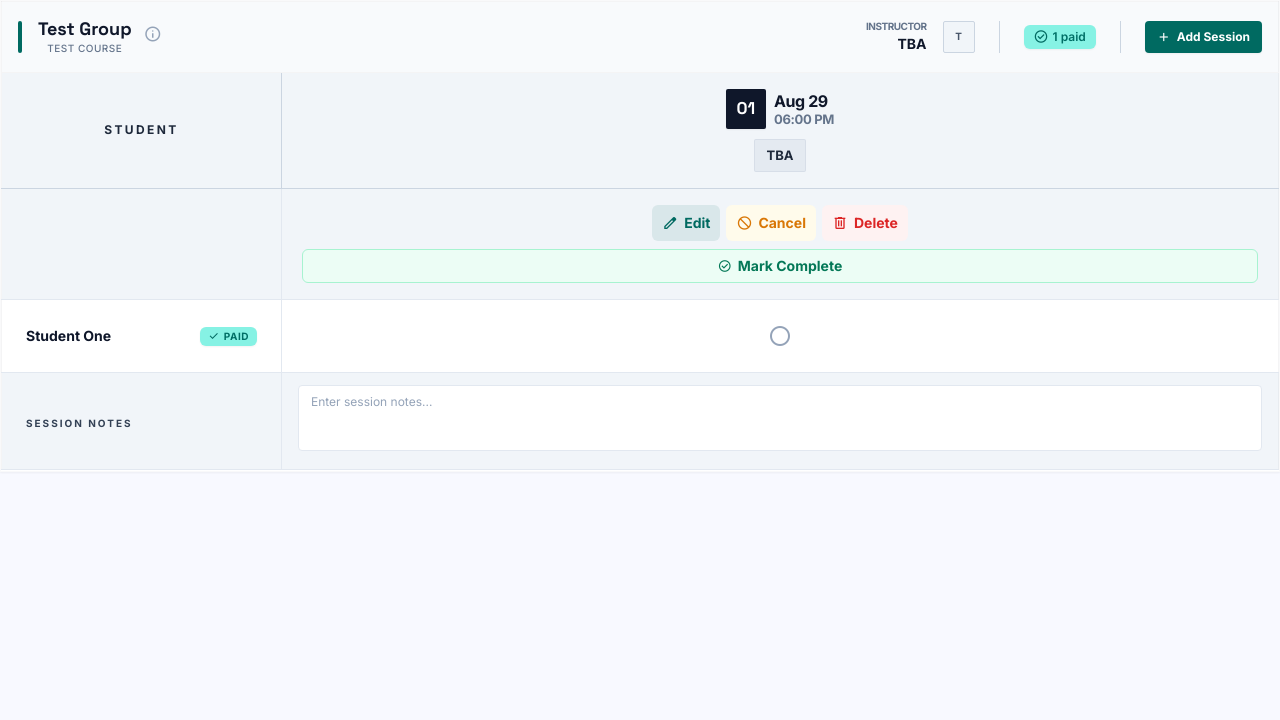
Test: AttendanceGrid AddSessionDialog refresh › does not invalidate attendance caches when the dialog is cancelled
Click the button "Add Session" at point(1203, 37), box [1145, 21, 1262, 53]
(page scrolled)
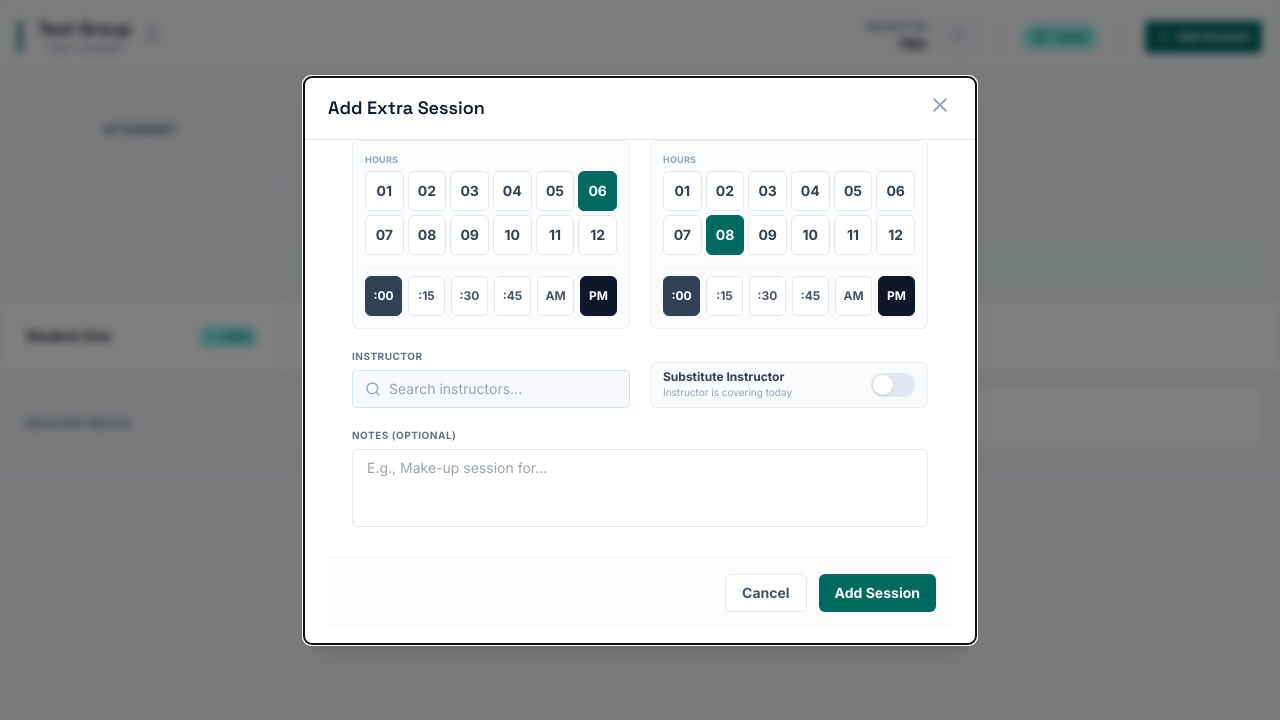
Click the button "Cancel" at point(766, 592), box [725, 574, 807, 612]
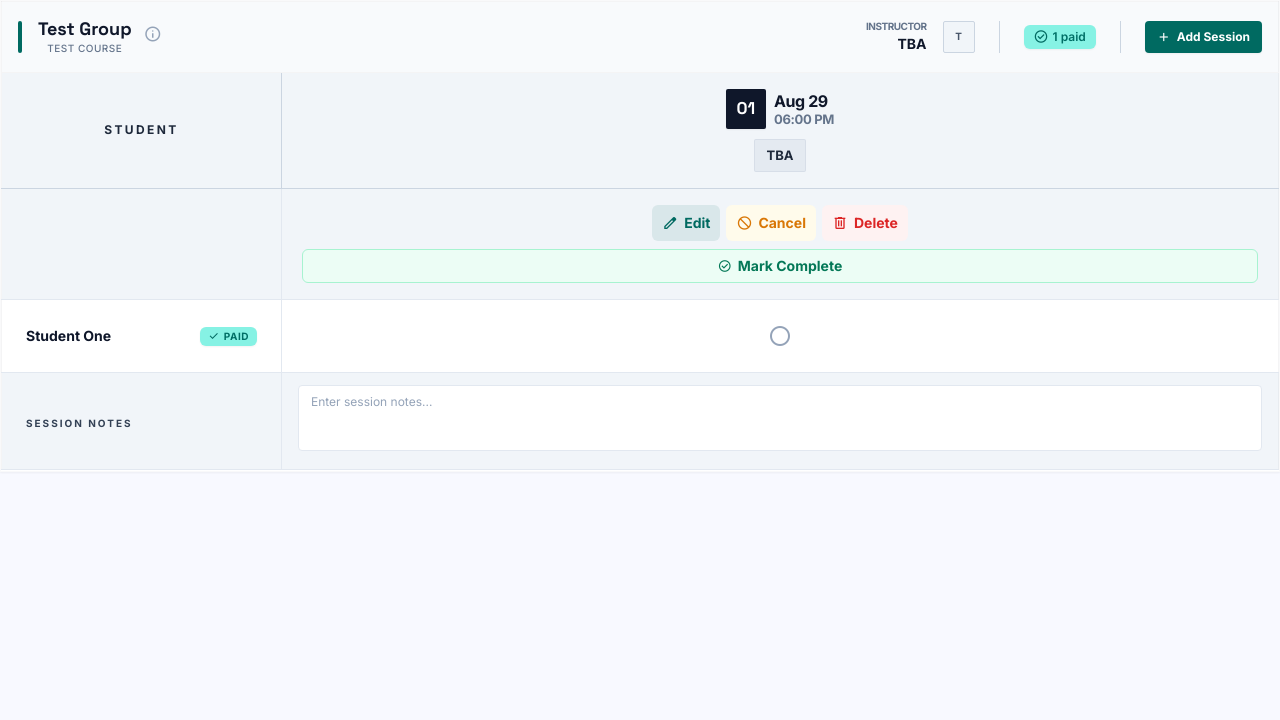
Result: the dialog is gone
